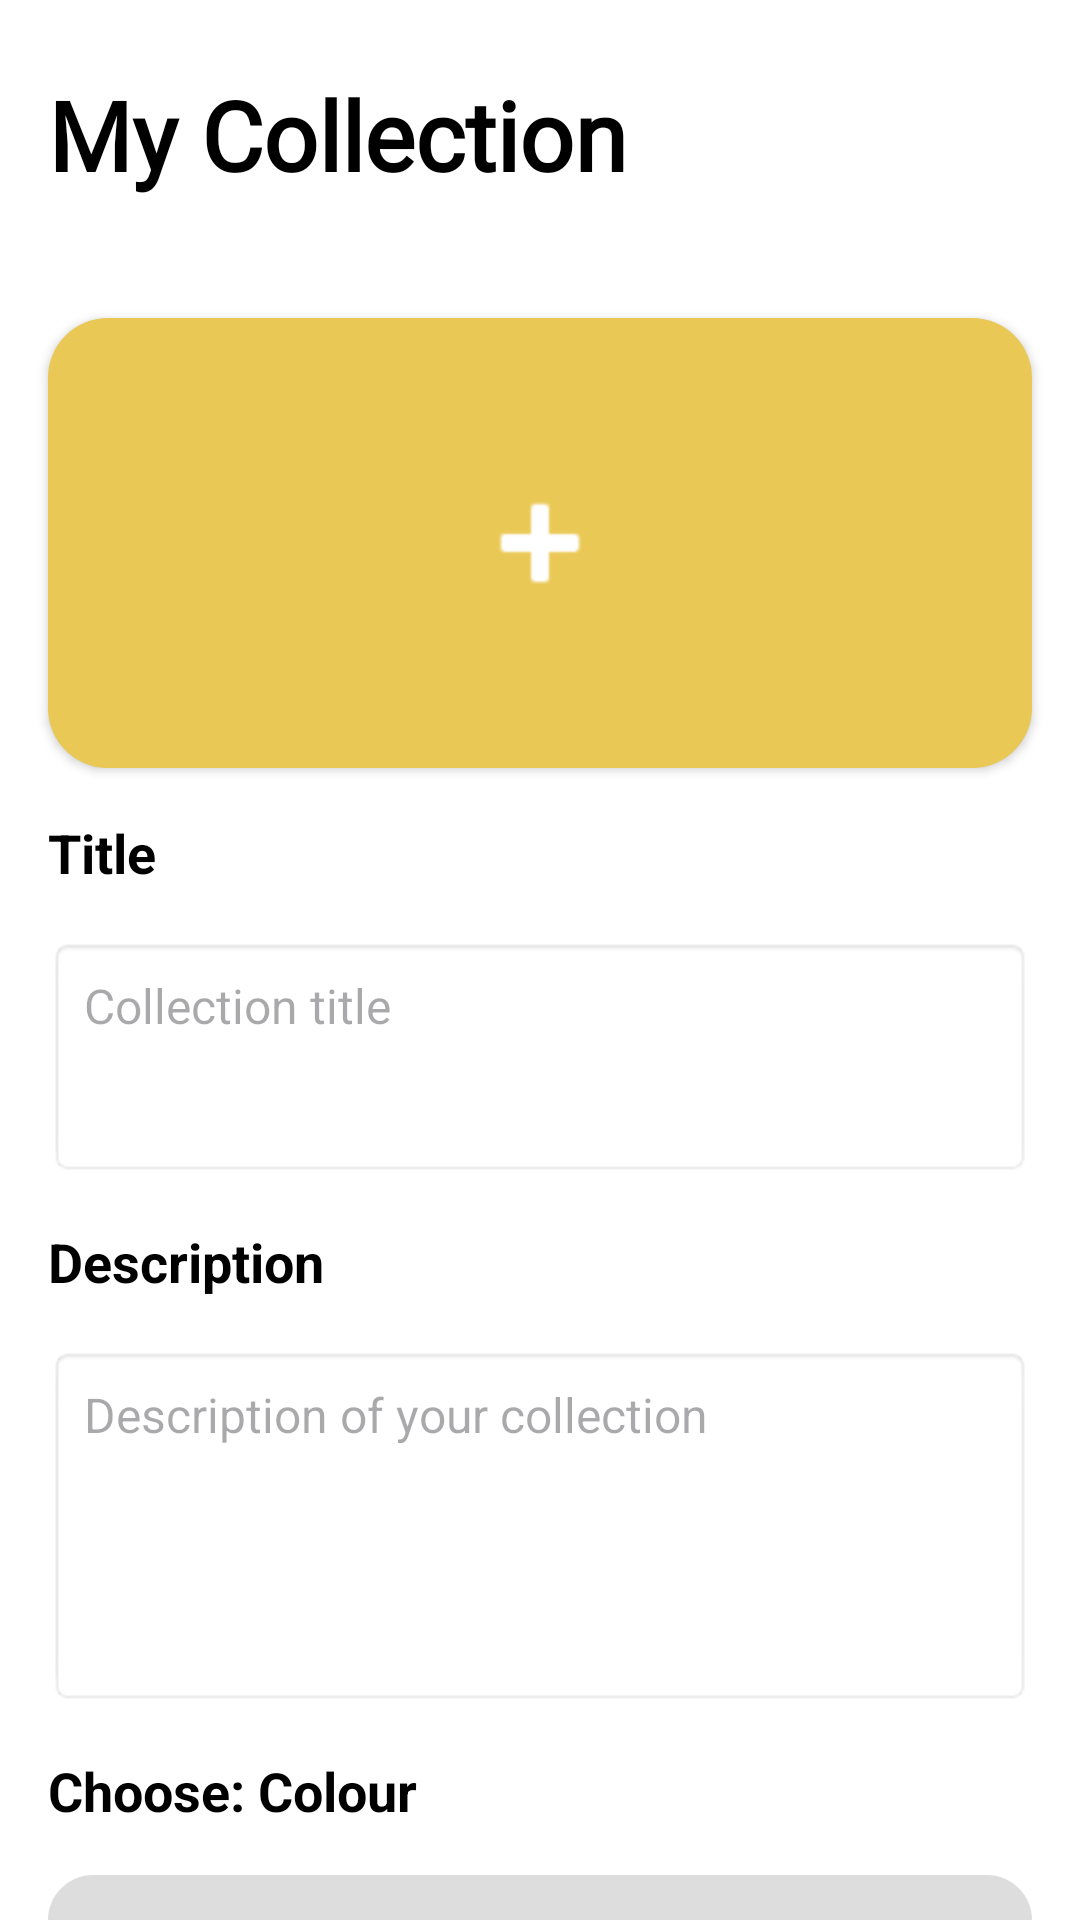

Icon click points for this 1080*1920 phone screenshot, format [x,y]:
add: [540,543]
